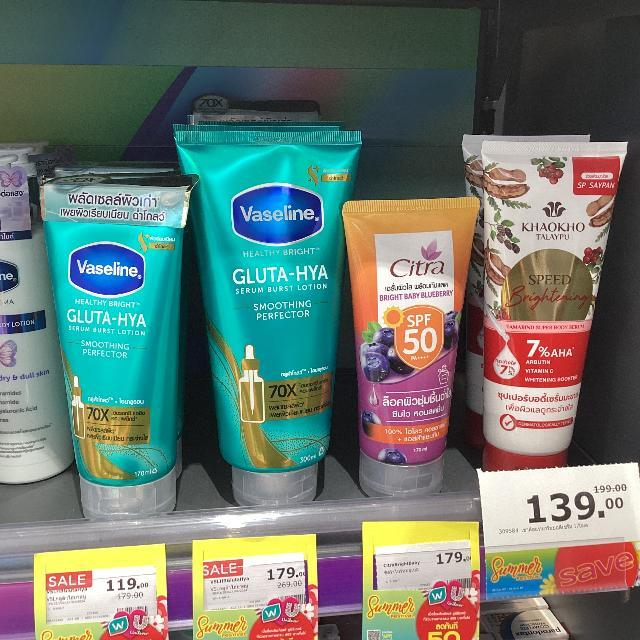Squeeze Tube: (2, 88, 634, 513), (174, 131, 362, 512), (40, 174, 187, 531), (475, 147, 624, 496), (342, 191, 487, 512)
